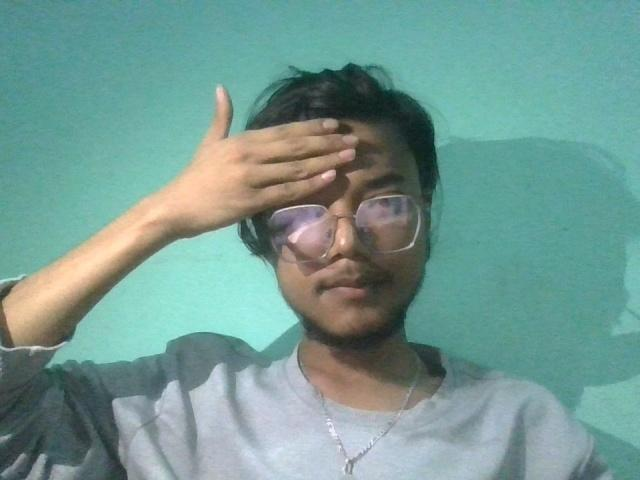forget: (156, 67, 368, 233)
